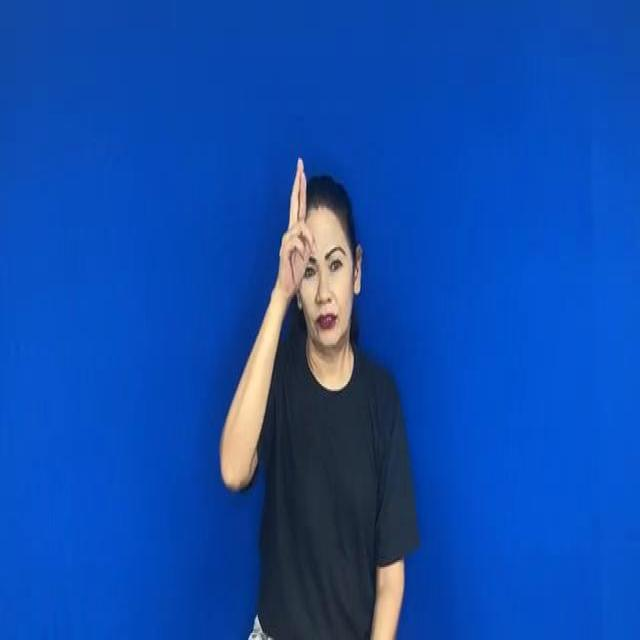chicken: (273, 153, 320, 304)
